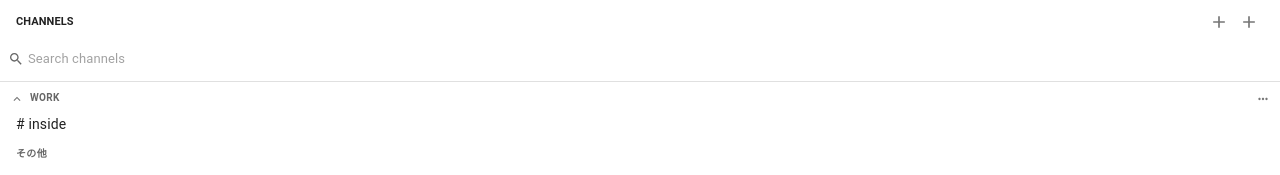
Test: ChannelCategorySection: 折りたたみ/展開 › カテゴリヘッダーをクリックするとチャンネル一覧が折りたたまれる
expect the text "# inside" is shown: met, box left=16, top=116, right=66, bottom=132
Click the element with test id "category-header-1" at (45, 98), box left=0, top=82, right=1279, bottom=110
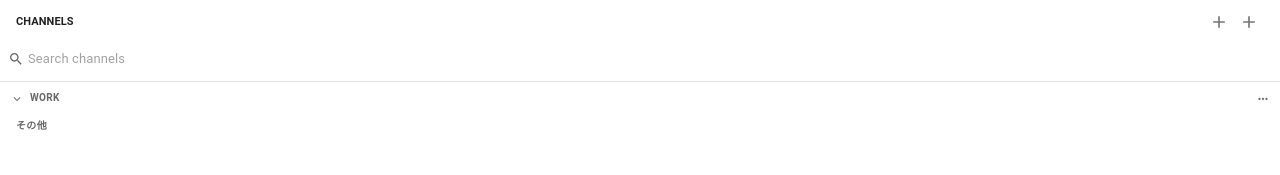
expect the button "# inside" is gone: met
